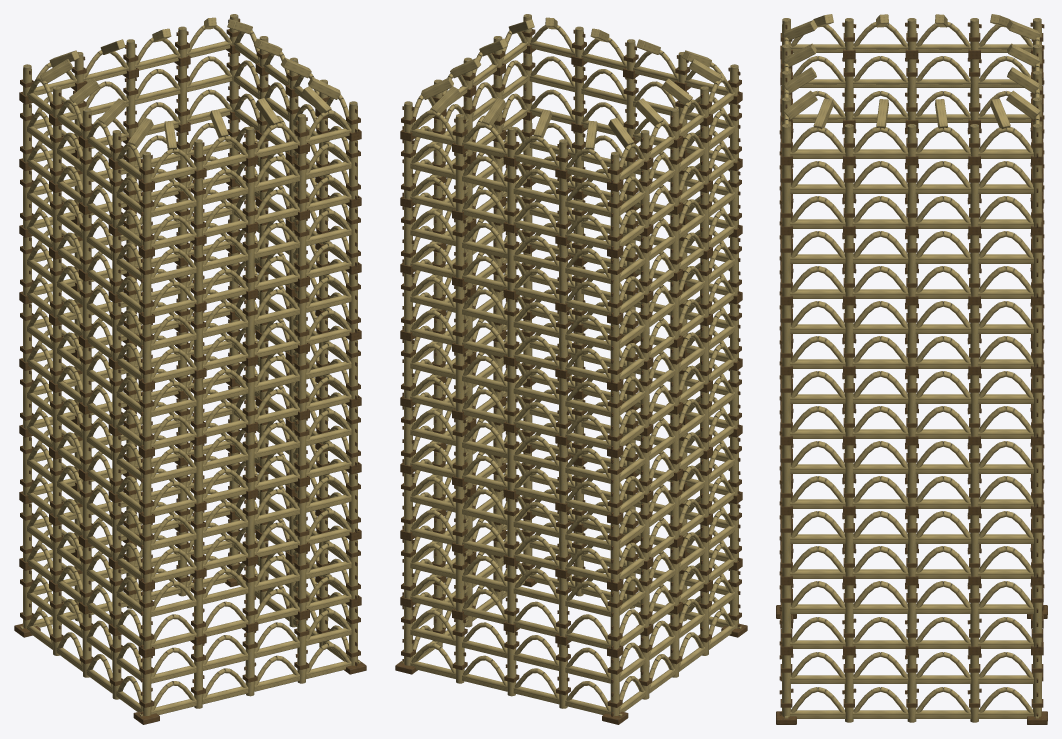
3 views of the same model, side by side, from view 1: azimuth 30°, elevation 25°; view 2: azimuth 150°, elevation 25°; view 3: azimuth 270°, elevation 25° (orthographic). The views are drawn at different scales.
Parts seen in each view (by area): view 1: no part large enough to name; view 2: no part large enough to name; view 3: Tier 0 side 1 post 2, Tier 0 side 1 post 3, Tier 0 side 1 post 1, Tier 1 side 1 post 2, Tier 2 side 1 post 2, Tier 3 side 1 post 2, Tier 4 side 1 post 2, Tier 5 side 1 post 2, Tier 6 side 1 post 2, Tier 7 side 1 post 2, Tier 7 side 3 post 2, Tier 1 side 1 post 3 (+31 smaller).
Part boxes in pixels (x1,y1,x2,y2): Tier 0 side 1 post 2: (907, 655, 916, 722); Tier 0 side 1 post 3: (970, 655, 979, 722); Tier 0 side 1 post 1: (844, 655, 853, 722); Tier 1 side 1 post 2: (907, 585, 916, 646); Tier 2 side 1 post 2: (907, 515, 916, 576); Tier 3 side 1 post 2: (907, 445, 916, 506); Tier 4 side 1 post 2: (907, 375, 916, 436); Tier 5 side 1 post 2: (907, 305, 916, 366); Tier 6 side 1 post 2: (907, 235, 916, 296); Tier 7 side 1 post 2: (907, 165, 916, 226); Tier 7 side 3 post 2: (907, 59, 916, 120); Tier 1 side 1 post 3: (970, 585, 979, 646).
Bounding box in the file's own units: 1.95 × 4.84 × 1.95.
Materials: 2 (2 with a texture image).
